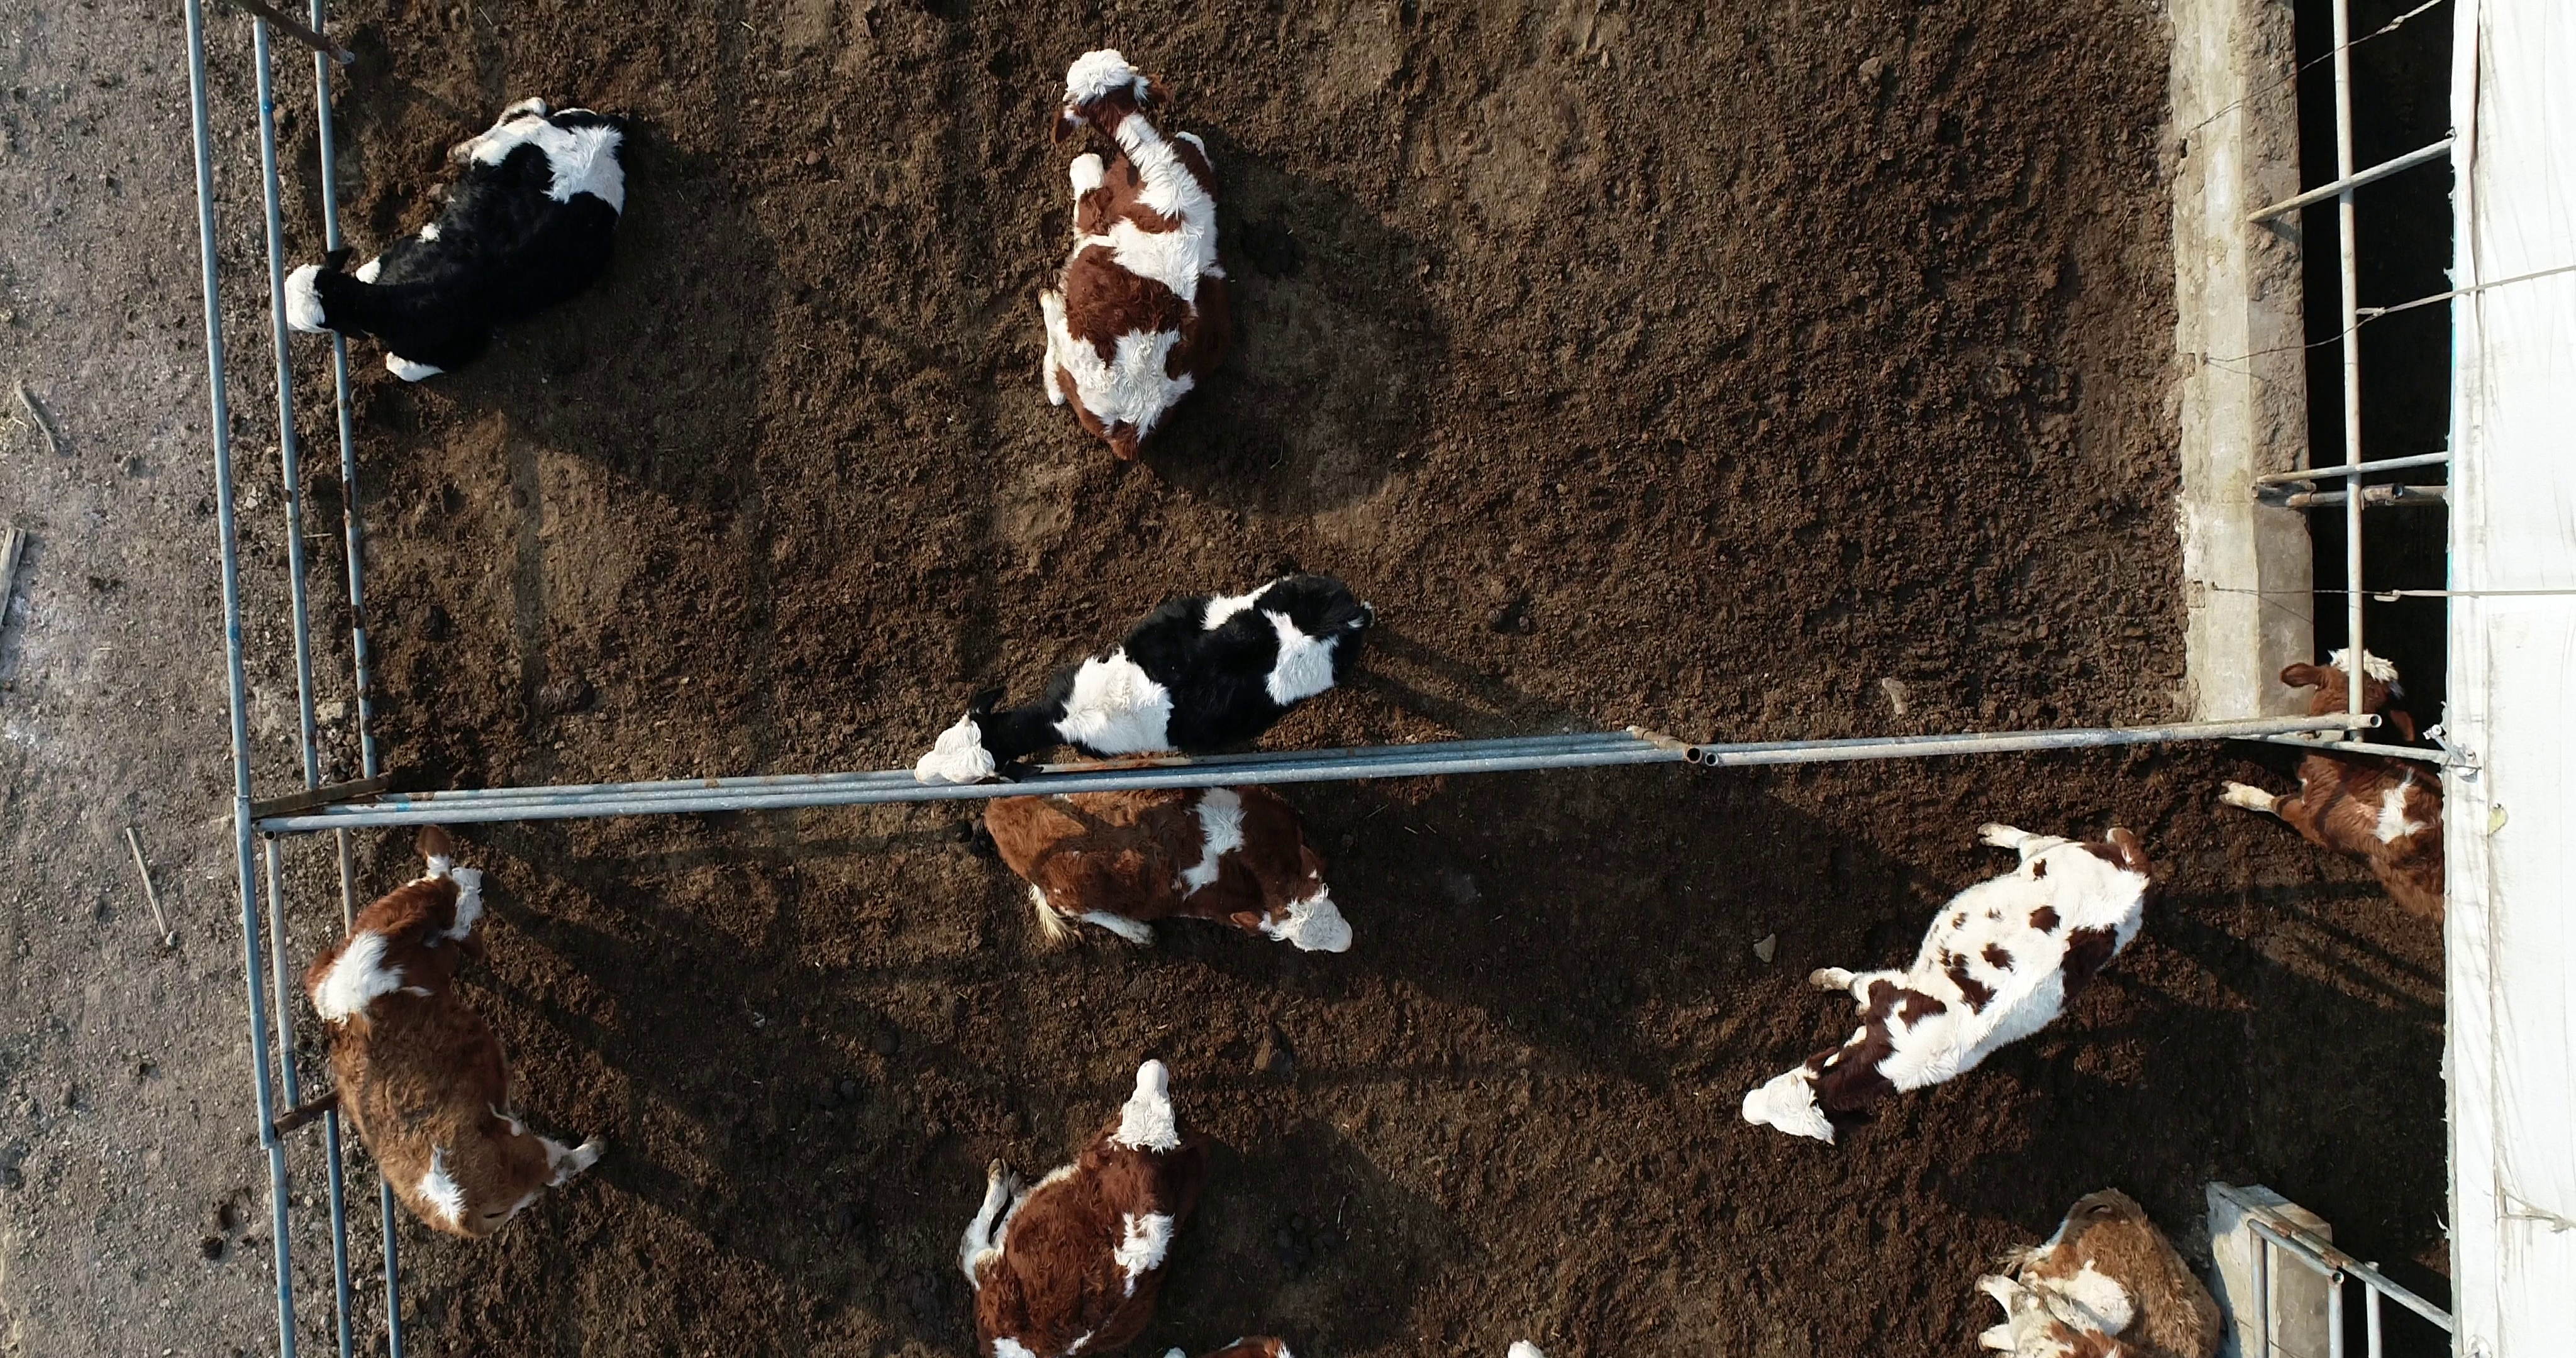cattle: (1734, 816, 2165, 1157), (295, 823, 615, 1246), (274, 90, 642, 388), (910, 569, 1387, 789), (1032, 46, 1230, 469)
